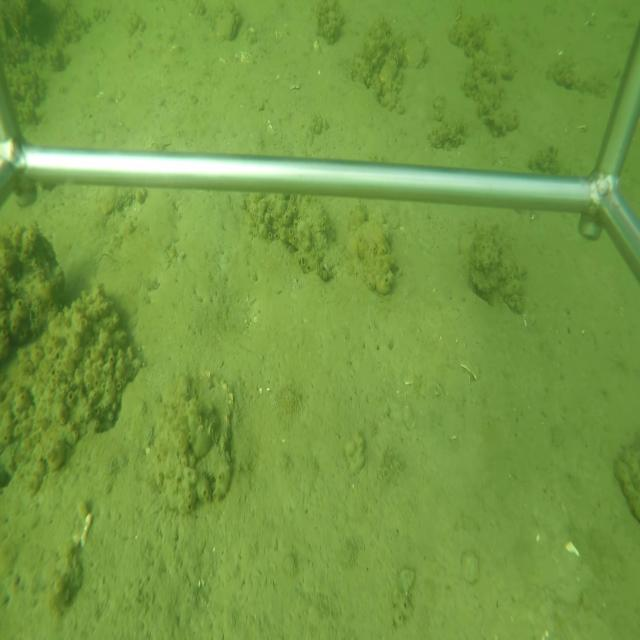Oyster-Closed: (405, 32, 428, 72), (216, 7, 240, 41)
